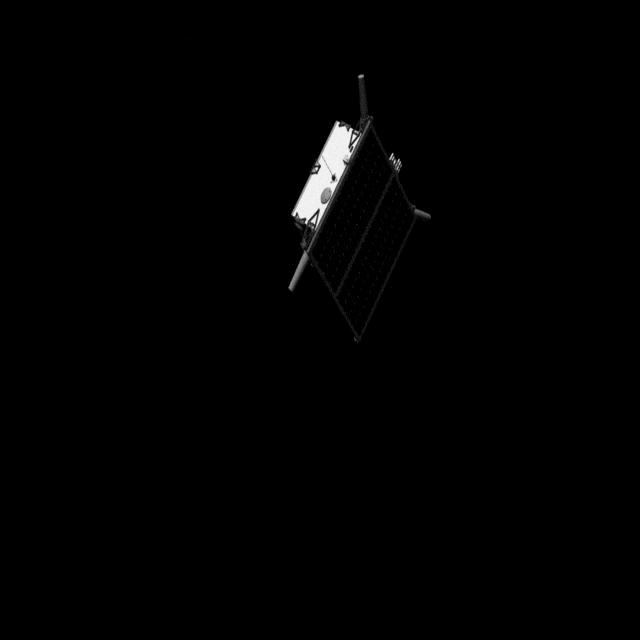satellite: (262, 74, 446, 352)
